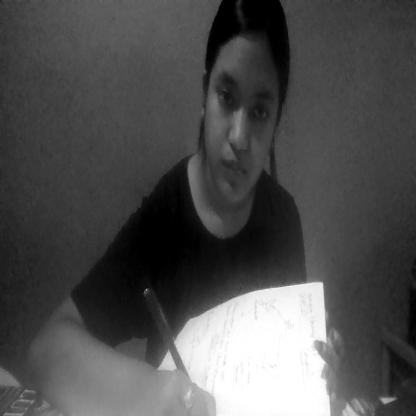Normal: (201, 0, 290, 206)
